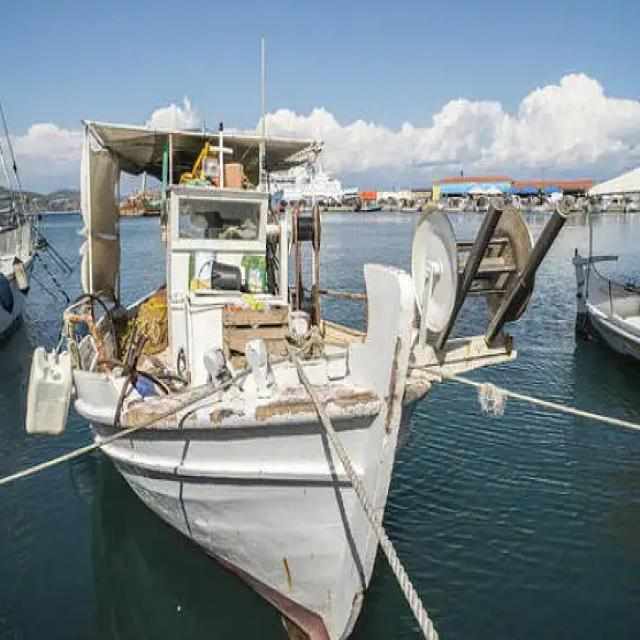fishing boat: (27, 106, 462, 640)
